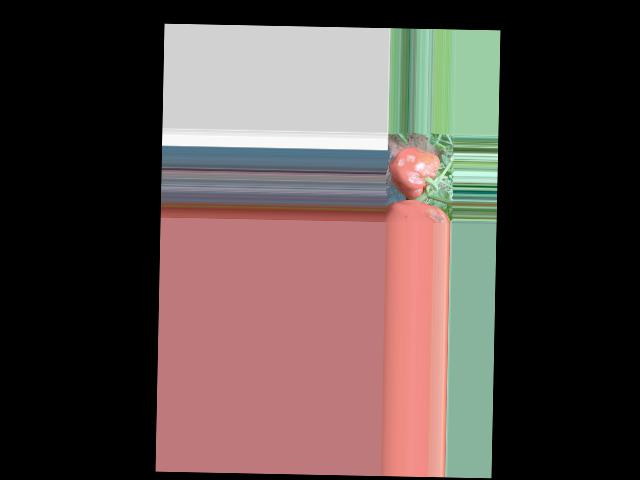bell_pepper: (385, 149, 444, 198)
